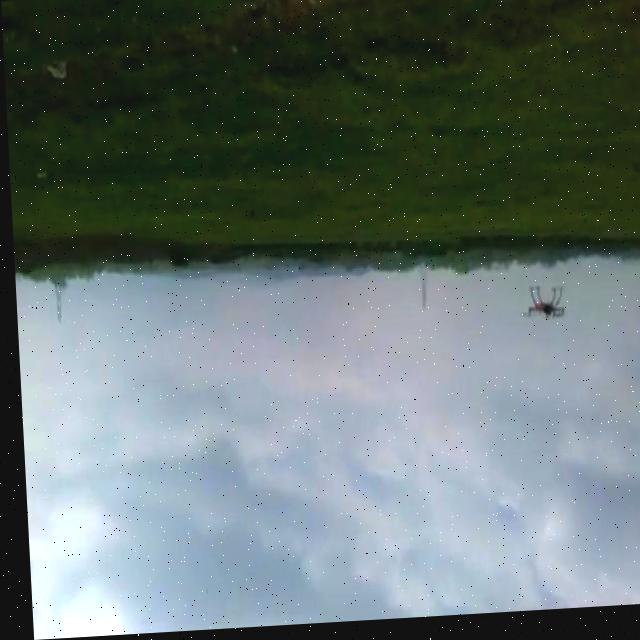drone: (515, 290, 563, 333)
